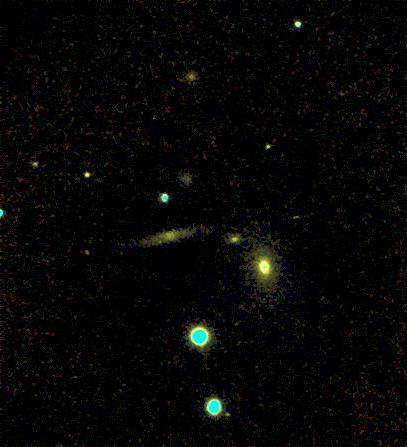star: (144, 227, 174, 257)
